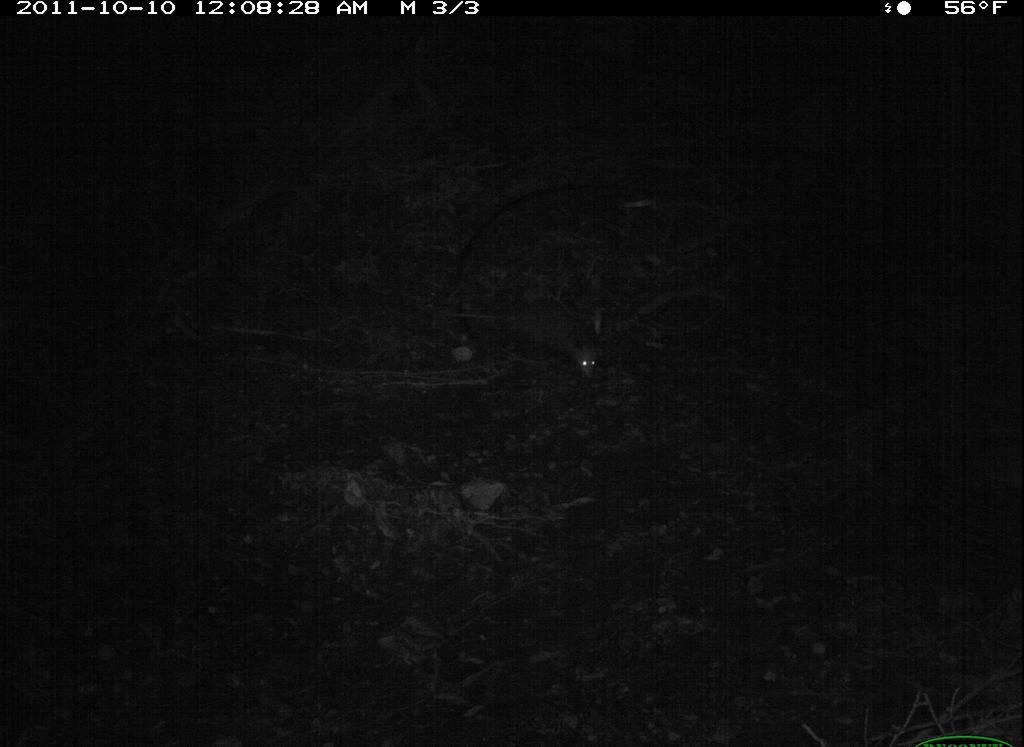opossum: (503, 285, 612, 394)
